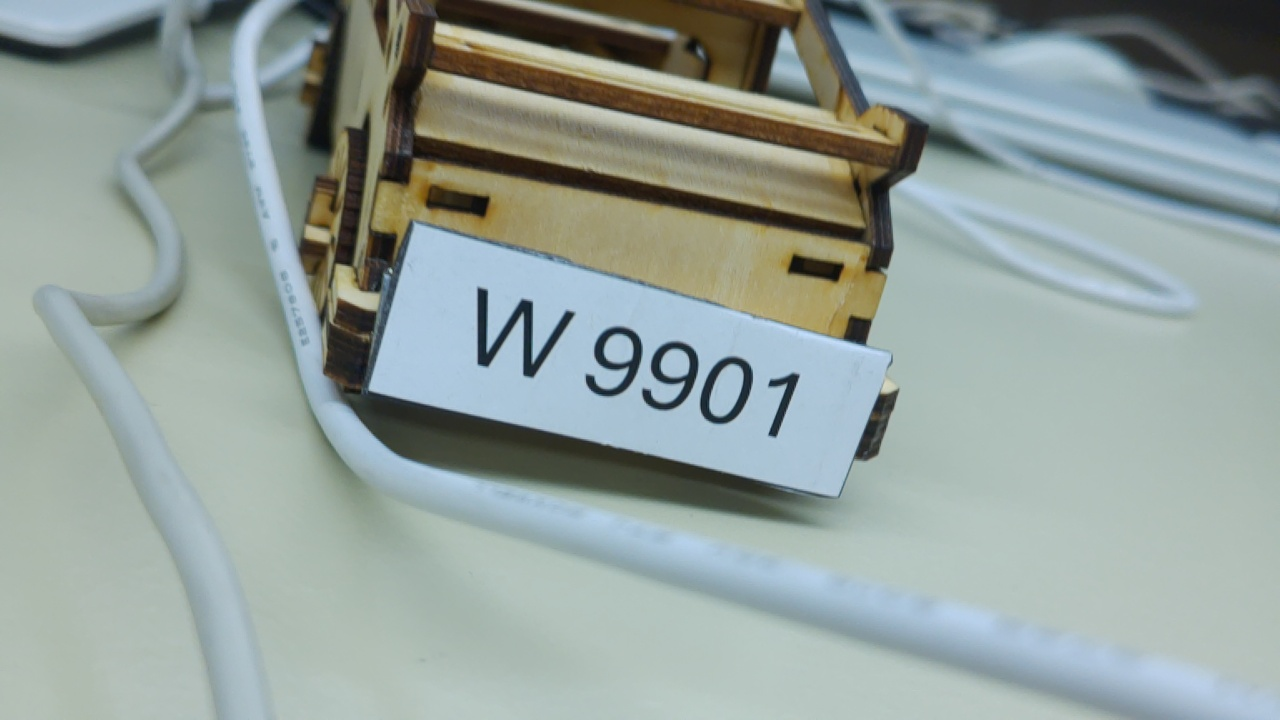license_plate: (364, 215, 899, 508)
